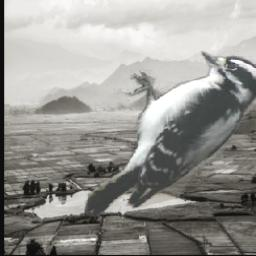Woodpecker: (84, 52, 256, 217)
